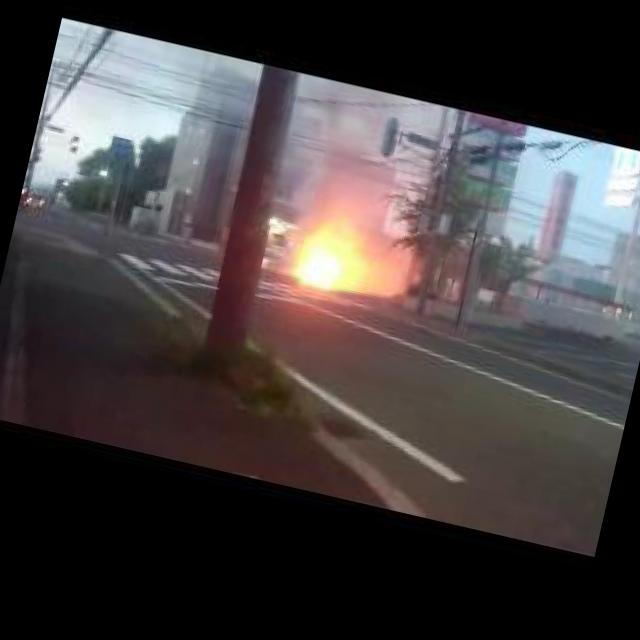fire: (287, 218, 374, 300)
